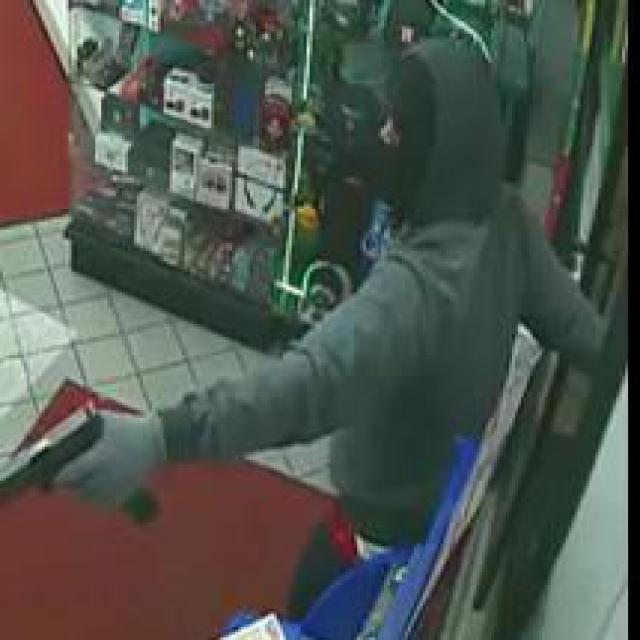Gun: (3, 392, 170, 528)
